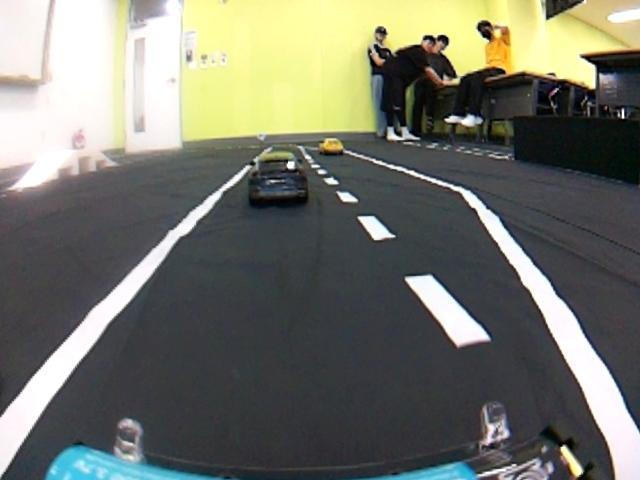car: (244, 149, 311, 209)
straight: (2, 207, 640, 477)
